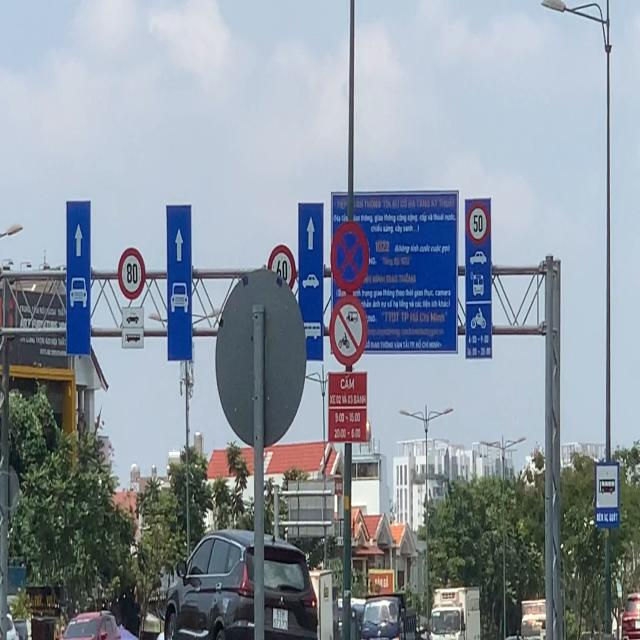Cam dung va do: (330, 221, 369, 293)
Hieu lenh: (594, 461, 620, 529)
Toc do toi da: (117, 247, 146, 300), (267, 244, 296, 295), (466, 202, 490, 246)
